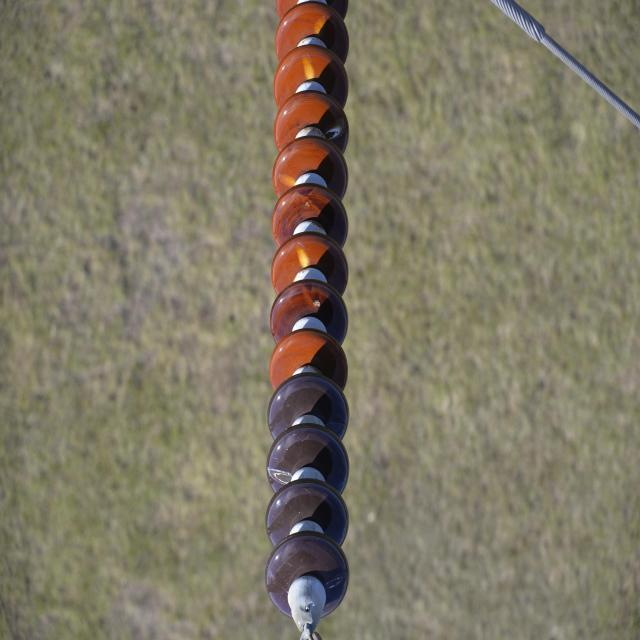insulator: (266, 0, 351, 619)
